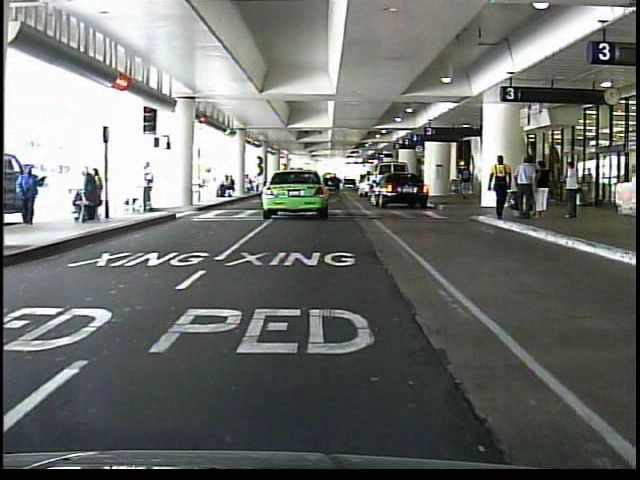person: (18, 159, 52, 224), (559, 158, 589, 228), (485, 151, 513, 225), (132, 161, 160, 222), (515, 151, 535, 226), (534, 159, 550, 223), (456, 160, 477, 205)
